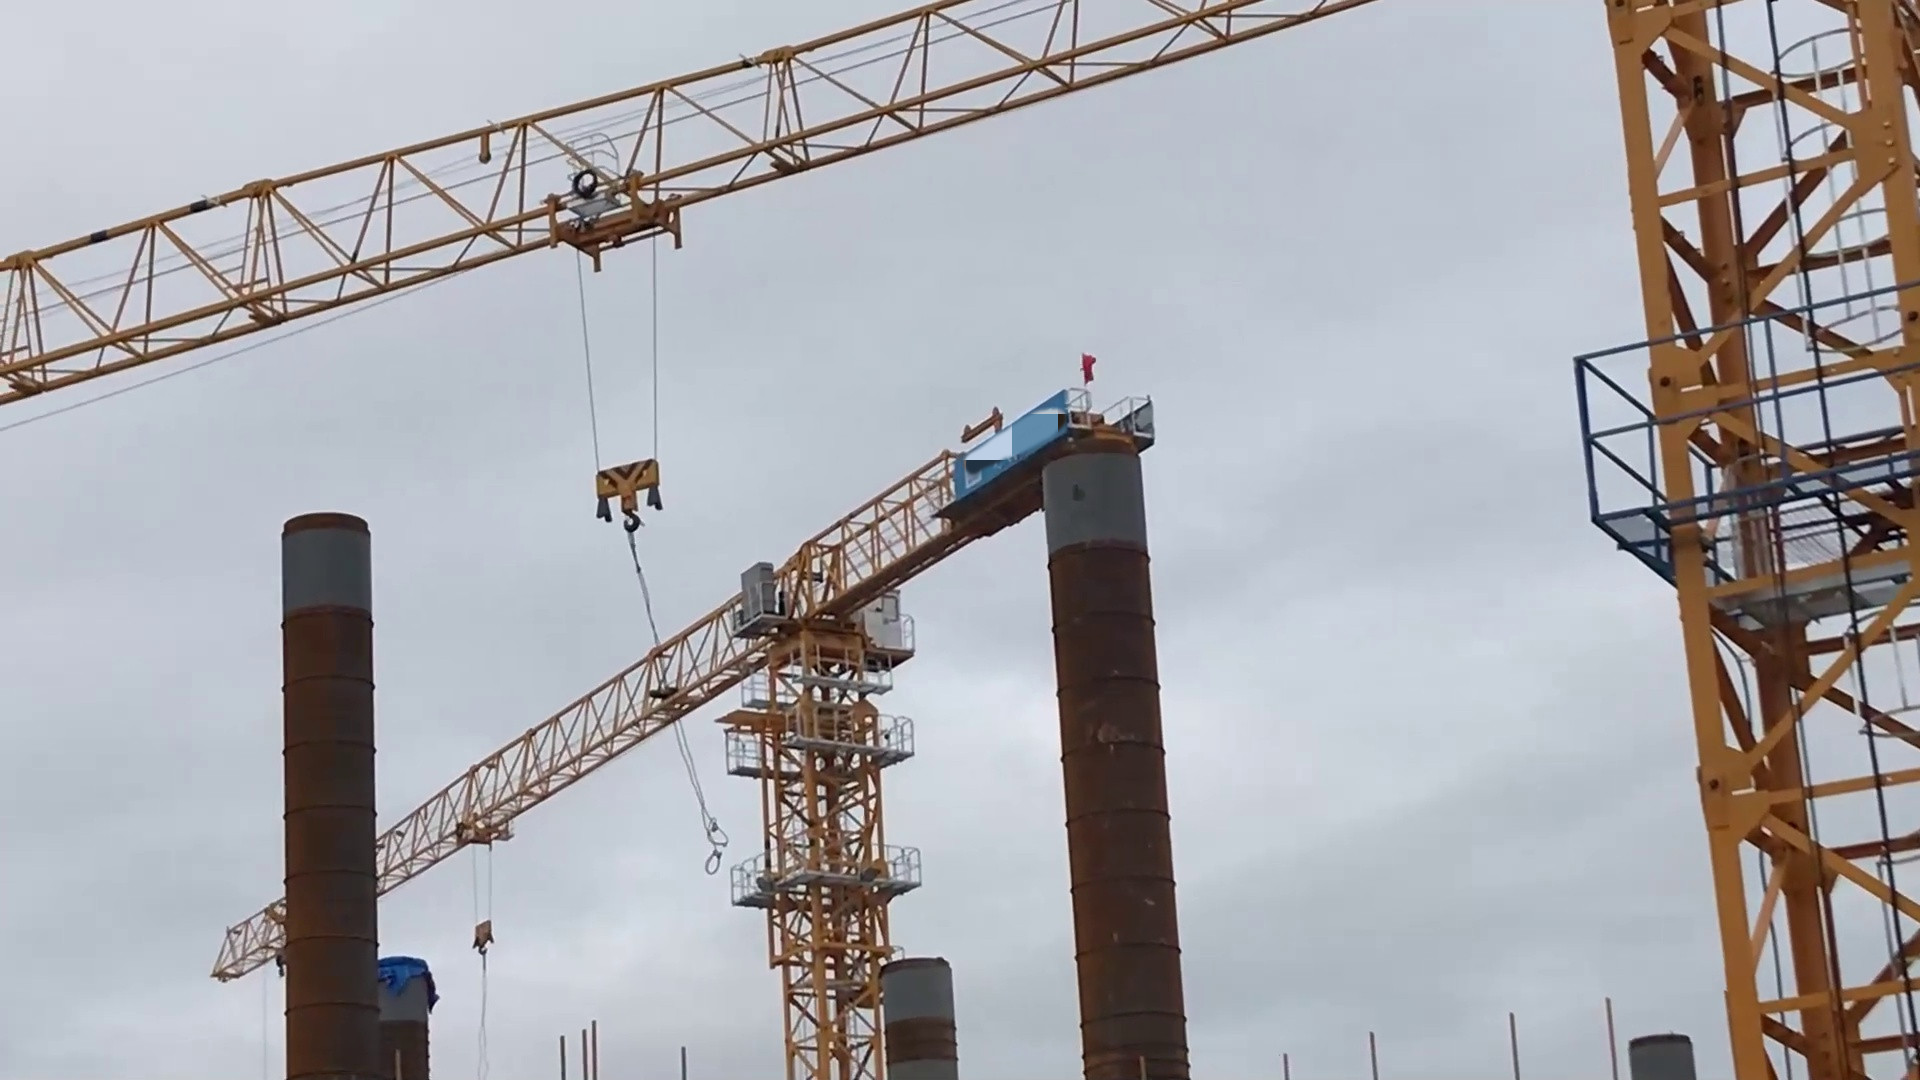hook: (589, 450, 678, 534)
